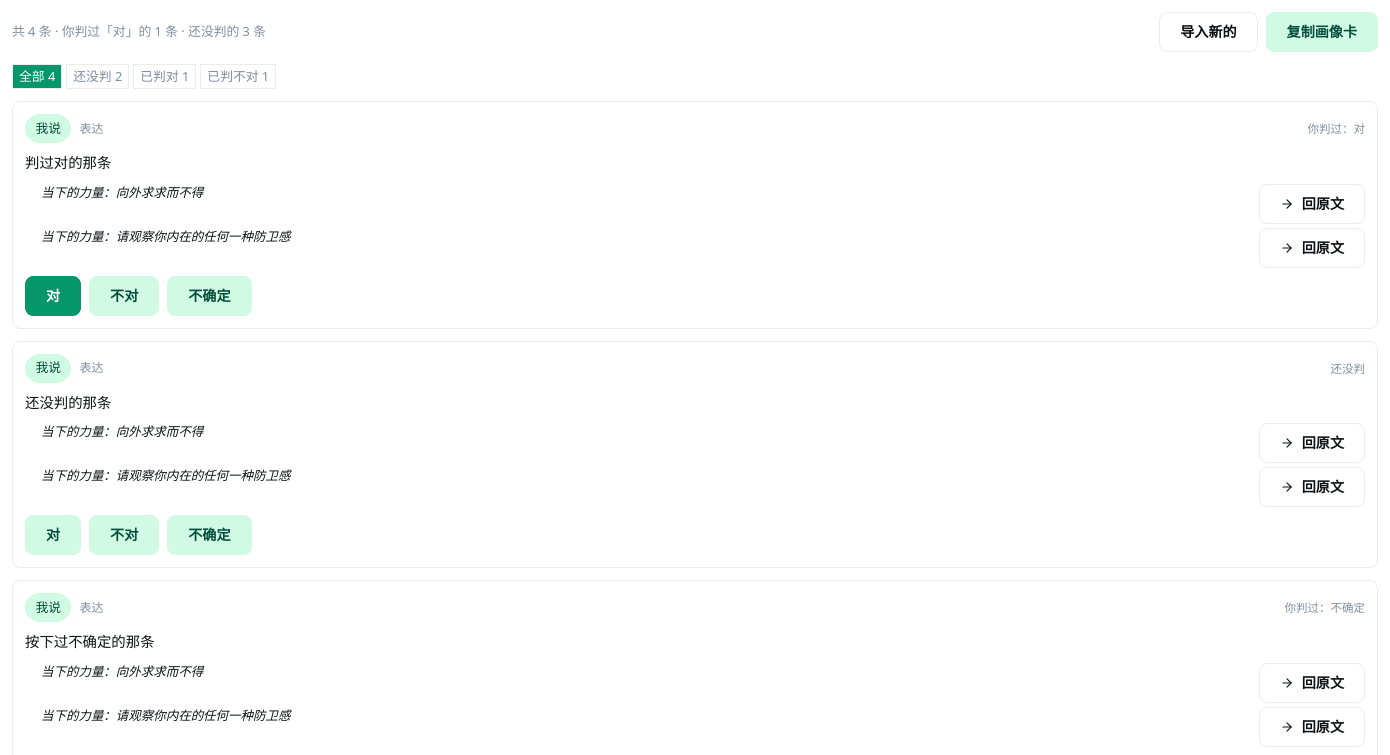
筛选：判过的能翻回来 › 切到「已判对」只摆那一条，且证据与原句仍读得到
Expected: the text "判过对的那条" is shown, [25,153,111,172]
Click the button "已判对 1" at (165, 77), box [133,64,196,89]
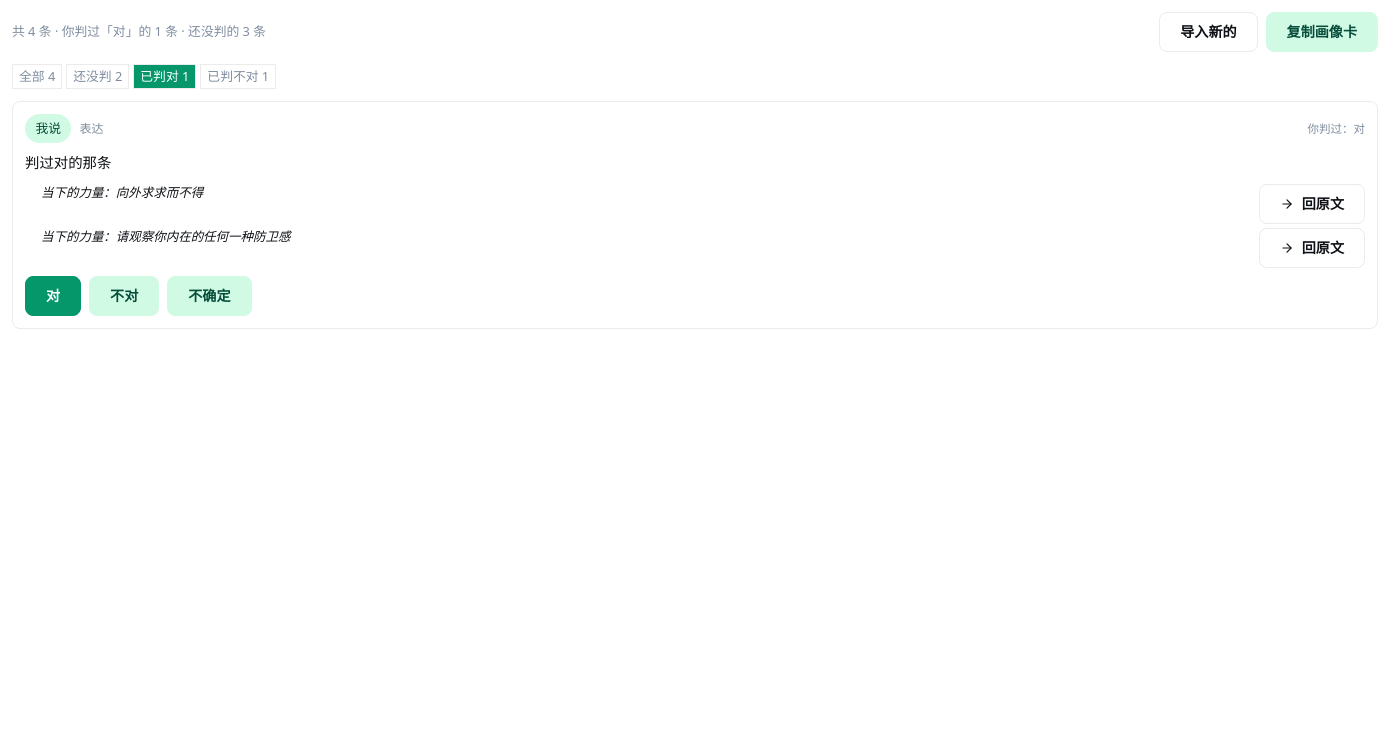
Expected: the text "判过对的那条" is shown, [25,153,111,172]
Now the text "还没判的那条" is gone
